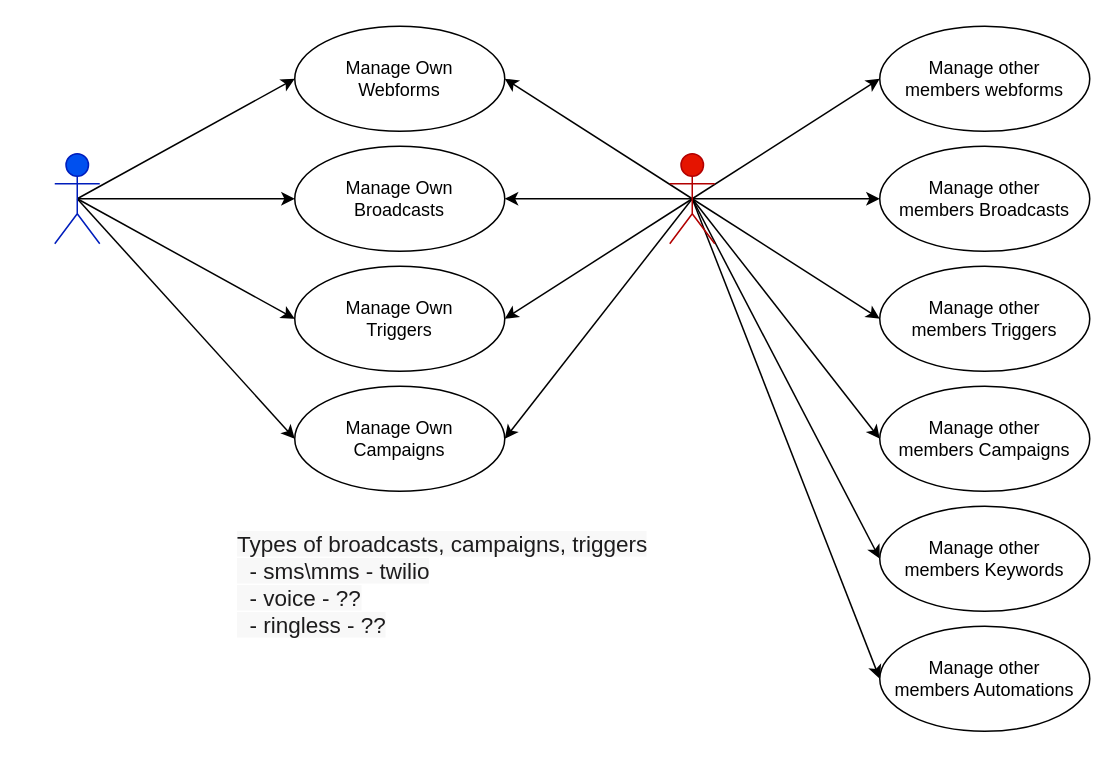
The diagram is 1116 pixels wide and 758 high, and some of its shapes have lost their labels. The shapes that lost their labels are listed below. From the top down, each one's centre as x and y in pixels, then its label:
point 76,198: Organization Member
point 691,198: Organization Owner
